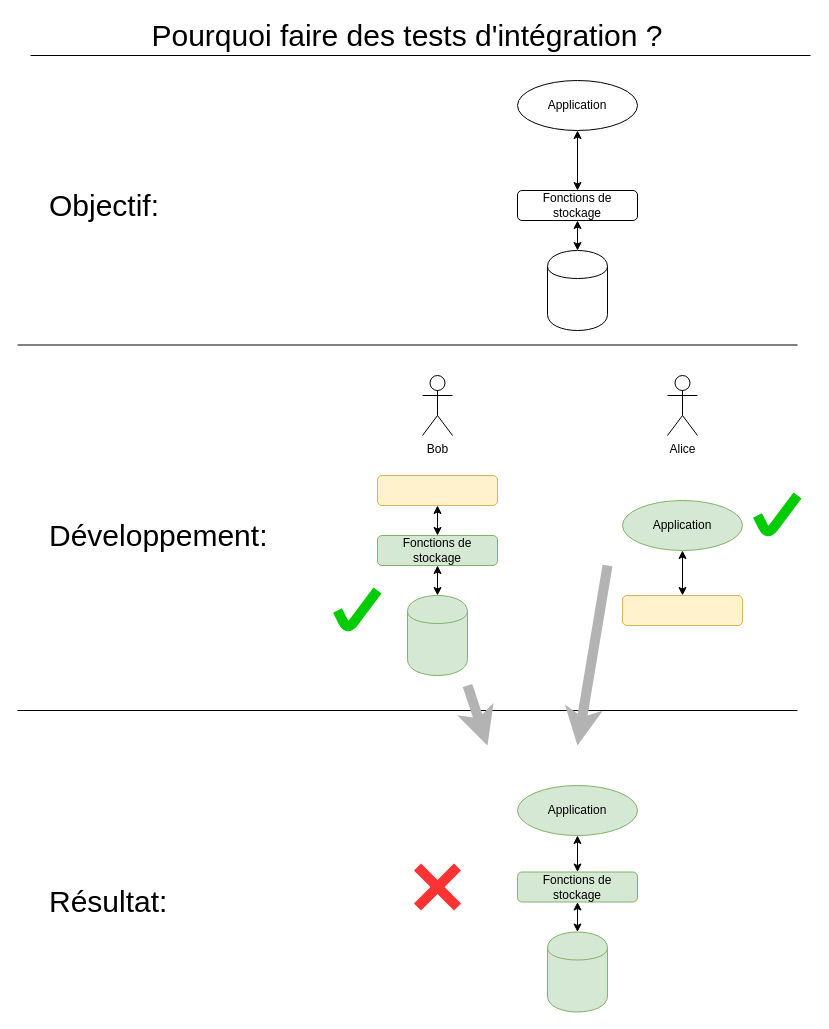
The diagram is 829 pixels wide and 1029 high, and some of its shapes have lost their labels. Each missing label, with the box of its shape:
Outil de test: (376, 474, 498, 506)
Simulateur: (622, 594, 742, 626)
